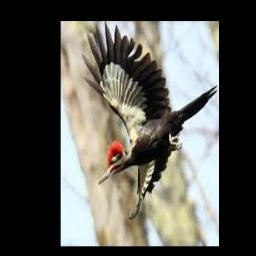Woodpecker: (82, 21, 218, 218)
